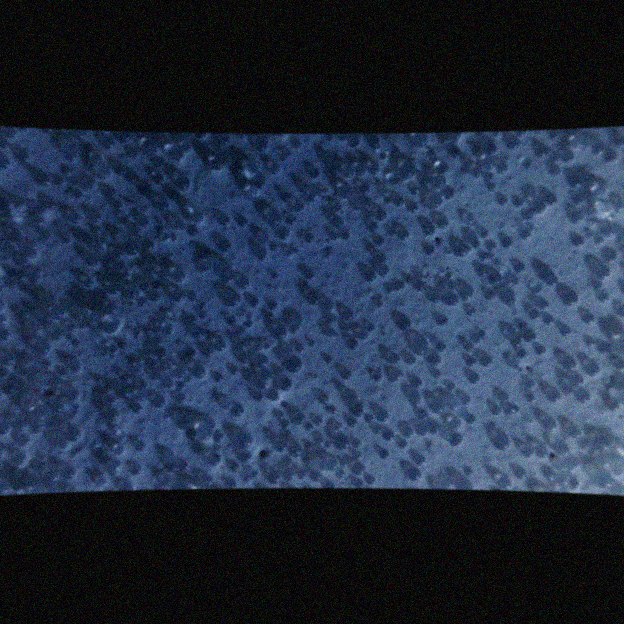GrassBeadSeg: (0, 151, 613, 496), (32, 150, 618, 432), (14, 194, 557, 465), (23, 157, 492, 452), (0, 138, 534, 390), (109, 175, 576, 457), (52, 209, 533, 475), (72, 212, 527, 478), (43, 150, 568, 370), (37, 164, 460, 430), (76, 210, 576, 430), (47, 274, 552, 480), (136, 235, 583, 465), (62, 162, 378, 479), (64, 149, 475, 391), (21, 157, 358, 445), (49, 210, 584, 389), (56, 152, 614, 317), (50, 150, 574, 319), (43, 250, 617, 404), (34, 229, 497, 415), (2, 138, 260, 441), (118, 200, 434, 447), (1, 280, 425, 455), (104, 196, 445, 412), (36, 174, 383, 382), (95, 164, 610, 302), (69, 229, 351, 479), (24, 256, 413, 436), (35, 270, 558, 403), (325, 175, 581, 444), (40, 230, 382, 429), (131, 289, 495, 475), (131, 236, 512, 413), (86, 255, 536, 402), (159, 173, 440, 401), (303, 136, 520, 428), (34, 249, 349, 449), (106, 291, 579, 420), (350, 132, 541, 445), (283, 148, 535, 380), (6, 159, 223, 423), (0, 329, 558, 430), (174, 176, 429, 397), (48, 136, 207, 482), (153, 216, 442, 406), (94, 203, 342, 424), (45, 174, 473, 299), (17, 256, 527, 359), (153, 173, 446, 350), (214, 313, 595, 442), (153, 247, 470, 402), (268, 162, 434, 444), (109, 338, 580, 437), (114, 235, 384, 407), (352, 162, 493, 474), (138, 200, 539, 306), (66, 358, 575, 441), (82, 276, 379, 418), (152, 335, 550, 440), (254, 138, 375, 483), (308, 342, 608, 481), (39, 273, 272, 448), (139, 216, 292, 470), (91, 255, 353, 403), (105, 164, 320, 344), (270, 227, 503, 392), (261, 247, 573, 370), (308, 172, 523, 348), (409, 235, 604, 427), (114, 355, 485, 455), (200, 310, 416, 480), (348, 137, 475, 420), (148, 240, 295, 481), (124, 241, 549, 324), (27, 194, 583, 257), (254, 265, 600, 366), (155, 291, 349, 471), (370, 162, 507, 415), (16, 418, 510, 488), (45, 199, 166, 482), (317, 279, 518, 444), (143, 240, 280, 478), (200, 187, 454, 311), (269, 228, 602, 321), (188, 162, 415, 298), (155, 197, 500, 285), (268, 390, 591, 483), (281, 326, 571, 429), (0, 361, 259, 476), (109, 344, 346, 467), (330, 270, 503, 435), (231, 221, 379, 412), (149, 290, 478, 375), (0, 158, 166, 325), (386, 236, 514, 451), (56, 328, 363, 417), (7, 315, 590, 361), (394, 194, 555, 357), (191, 162, 470, 256), (398, 315, 593, 449), (57, 316, 236, 460), (0, 236, 177, 381), (89, 212, 188, 471), (13, 200, 121, 430), (172, 288, 422, 387), (164, 283, 395, 389), (173, 213, 368, 336), (107, 282, 535, 338), (190, 291, 458, 378), (377, 137, 513, 307), (238, 209, 386, 363), (143, 183, 388, 276), (236, 318, 411, 447), (307, 196, 403, 430), (339, 183, 425, 435), (248, 306, 476, 399), (224, 132, 531, 201), (116, 227, 602, 270), (309, 196, 503, 303), (0, 138, 79, 399), (304, 187, 525, 279), (428, 162, 496, 454), (202, 415, 473, 487), (415, 240, 496, 480), (529, 190, 603, 450), (43, 205, 207, 321), (554, 227, 623, 496), (398, 229, 545, 354), (342, 385, 572, 464), (325, 313, 501, 414), (135, 170, 547, 213), (0, 245, 196, 335), (121, 337, 520, 381), (1, 301, 116, 453), (121, 372, 313, 463), (274, 210, 458, 304), (131, 225, 390, 291), (154, 215, 247, 397), (375, 209, 610, 279), (175, 214, 388, 289), (153, 280, 539, 320), (52, 342, 270, 412), (67, 297, 147, 486), (188, 291, 322, 403), (155, 157, 314, 243), (359, 359, 623, 410), (7, 329, 399, 363), (288, 164, 366, 333), (187, 224, 245, 450), (5, 158, 86, 319), (71, 343, 475, 373), (247, 284, 383, 373), (11, 126, 133, 224), (398, 318, 599, 376), (67, 323, 181, 425), (181, 276, 242, 465), (192, 162, 380, 222), (330, 231, 375, 480), (107, 440, 431, 474), (292, 164, 355, 333), (324, 187, 473, 258), (321, 201, 418, 310), (253, 221, 373, 307), (298, 199, 352, 379), (124, 285, 251, 361), (346, 229, 417, 364), (102, 257, 173, 388), (424, 244, 574, 304), (181, 215, 231, 391), (94, 231, 482, 253), (548, 342, 609, 480), (273, 216, 344, 331), (289, 199, 354, 321), (436, 341, 509, 449), (298, 231, 375, 333), (103, 316, 236, 375), (296, 433, 461, 479), (180, 342, 268, 428), (549, 128, 623, 229), (33, 339, 126, 418), (115, 282, 211, 358), (237, 216, 336, 288), (0, 167, 125, 224), (74, 187, 146, 285), (0, 324, 173, 364), (197, 423, 433, 452), (463, 145, 547, 224), (307, 271, 502, 305), (398, 266, 549, 309), (80, 233, 481, 249), (514, 262, 560, 398), (222, 284, 272, 408), (328, 355, 424, 419), (34, 217, 157, 265), (242, 338, 437, 366), (565, 371, 612, 487), (251, 343, 398, 380), (132, 285, 492, 300), (28, 212, 101, 284), (146, 132, 230, 193), (409, 271, 480, 343), (348, 183, 369, 426), (136, 404, 244, 451), (260, 196, 364, 244), (280, 356, 476, 381), (465, 172, 492, 352), (279, 408, 426, 440), (213, 215, 240, 382), (350, 186, 382, 326), (482, 194, 581, 239), (79, 130, 148, 193), (208, 328, 367, 355), (281, 401, 362, 454), (367, 134, 446, 188), (354, 338, 389, 459), (419, 316, 447, 464), (430, 269, 486, 343), (519, 281, 603, 330), (239, 328, 318, 379), (249, 296, 291, 391), (91, 300, 139, 383), (85, 233, 171, 279), (244, 320, 570, 332), (339, 183, 507, 206), (191, 238, 232, 330), (589, 241, 623, 351), (186, 142, 264, 189), (322, 390, 589, 403), (281, 411, 339, 470), (74, 319, 158, 359), (265, 309, 540, 321), (464, 154, 509, 226), (429, 392, 509, 432), (285, 352, 441, 372), (270, 389, 529, 401), (277, 369, 346, 414), (409, 380, 528, 406), (221, 254, 325, 283), (107, 170, 138, 266), (0, 217, 41, 287), (431, 149, 496, 192), (174, 356, 301, 378), (16, 151, 93, 187), (580, 379, 623, 443), (330, 161, 439, 186), (230, 161, 266, 236), (116, 430, 177, 473), (329, 161, 431, 186), (143, 440, 252, 463), (68, 212, 133, 249), (441, 253, 517, 284), (0, 126, 16, 272), (379, 394, 468, 420), (437, 162, 474, 224), (384, 146, 475, 171), (137, 343, 256, 362), (117, 379, 230, 399), (585, 229, 623, 288), (75, 130, 158, 157), (315, 416, 439, 434), (233, 365, 252, 482), (446, 396, 473, 475), (487, 143, 540, 183), (90, 142, 185, 164), (47, 471, 173, 487), (549, 135, 623, 161), (255, 213, 295, 260), (481, 331, 534, 366), (18, 309, 41, 388), (272, 227, 288, 340), (586, 336, 612, 404), (167, 423, 207, 465), (281, 191, 371, 208), (444, 162, 561, 175), (428, 149, 482, 177), (0, 390, 47, 422), (325, 424, 384, 448), (507, 320, 522, 413), (133, 347, 190, 371), (562, 372, 578, 456), (237, 301, 276, 335), (25, 324, 40, 412), (365, 413, 428, 433), (291, 411, 324, 449), (191, 326, 239, 351), (551, 143, 603, 166), (571, 465, 623, 488), (119, 248, 155, 280), (409, 201, 449, 229), (165, 347, 196, 383), (285, 411, 305, 465), (38, 177, 65, 214), (466, 462, 566, 471), (154, 320, 173, 365), (298, 182, 314, 235), (535, 315, 555, 355), (557, 456, 621, 468), (266, 210, 290, 238), (294, 343, 329, 362), (68, 333, 122, 345), (24, 367, 40, 407), (288, 442, 306, 477), (557, 437, 592, 455), (342, 438, 361, 471), (114, 249, 153, 265), (119, 130, 153, 148), (405, 274, 447, 288), (536, 445, 552, 481), (393, 174, 420, 195), (395, 278, 441, 290), (283, 182, 309, 202), (93, 148, 139, 159), (118, 382, 143, 402), (274, 345, 289, 376), (93, 177, 115, 198), (319, 448, 361, 459), (281, 138, 301, 161), (23, 385, 44, 404), (277, 411, 291, 438), (275, 419, 286, 452), (559, 371, 584, 384), (446, 382, 459, 406), (222, 288, 240, 305), (344, 324, 376, 333), (374, 134, 385, 160), (137, 358, 157, 372), (141, 268, 153, 291), (142, 370, 161, 384), (381, 175, 392, 196), (137, 379, 148, 400), (175, 391, 187, 403), (163, 324, 175, 335), (569, 178, 583, 187), (469, 372, 479, 384), (602, 437, 609, 450), (337, 469, 345, 479)
